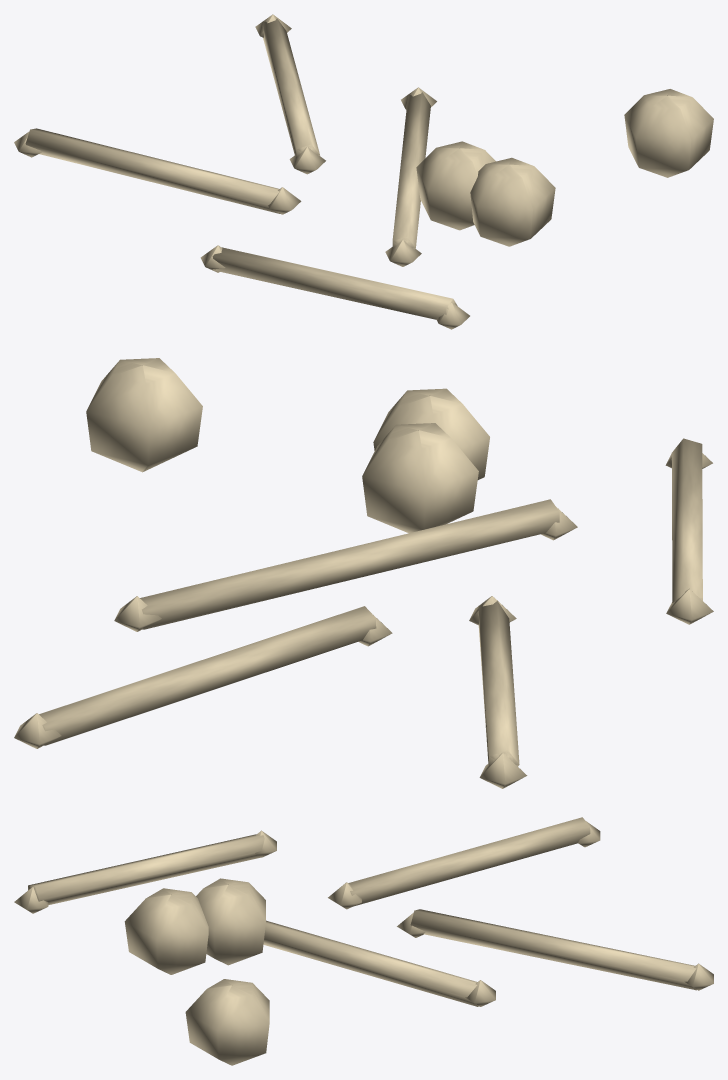
File: Bones_Scatter_1_LOD1.gltf
3 renders of one model, top to bottom at view 1: azimuth 30°, elevation 25°; view 2: azimuth 150°, elevation 25°; view 3: azimuth 270°, elevation 25°, orthographic. The views are drawn at different scales.
Visible parts, largest first — view 1: Bones_Scatter_1_LOD1; view 2: Bones_Scatter_1_LOD1; view 3: Bones_Scatter_1_LOD1.
Boxes of the visible parts, left/top/right/bottom form: Bones_Scatter_1_LOD1: left=14, top=14, right=713, bottom=329; Bones_Scatter_1_LOD1: left=14, top=358, right=713, bottom=788; Bones_Scatter_1_LOD1: left=14, top=817, right=713, bottom=1065.
Size of the model in its own units: 1.37 by 0.21 by 1.66.
Materials: 1 (1 with a texture image).
